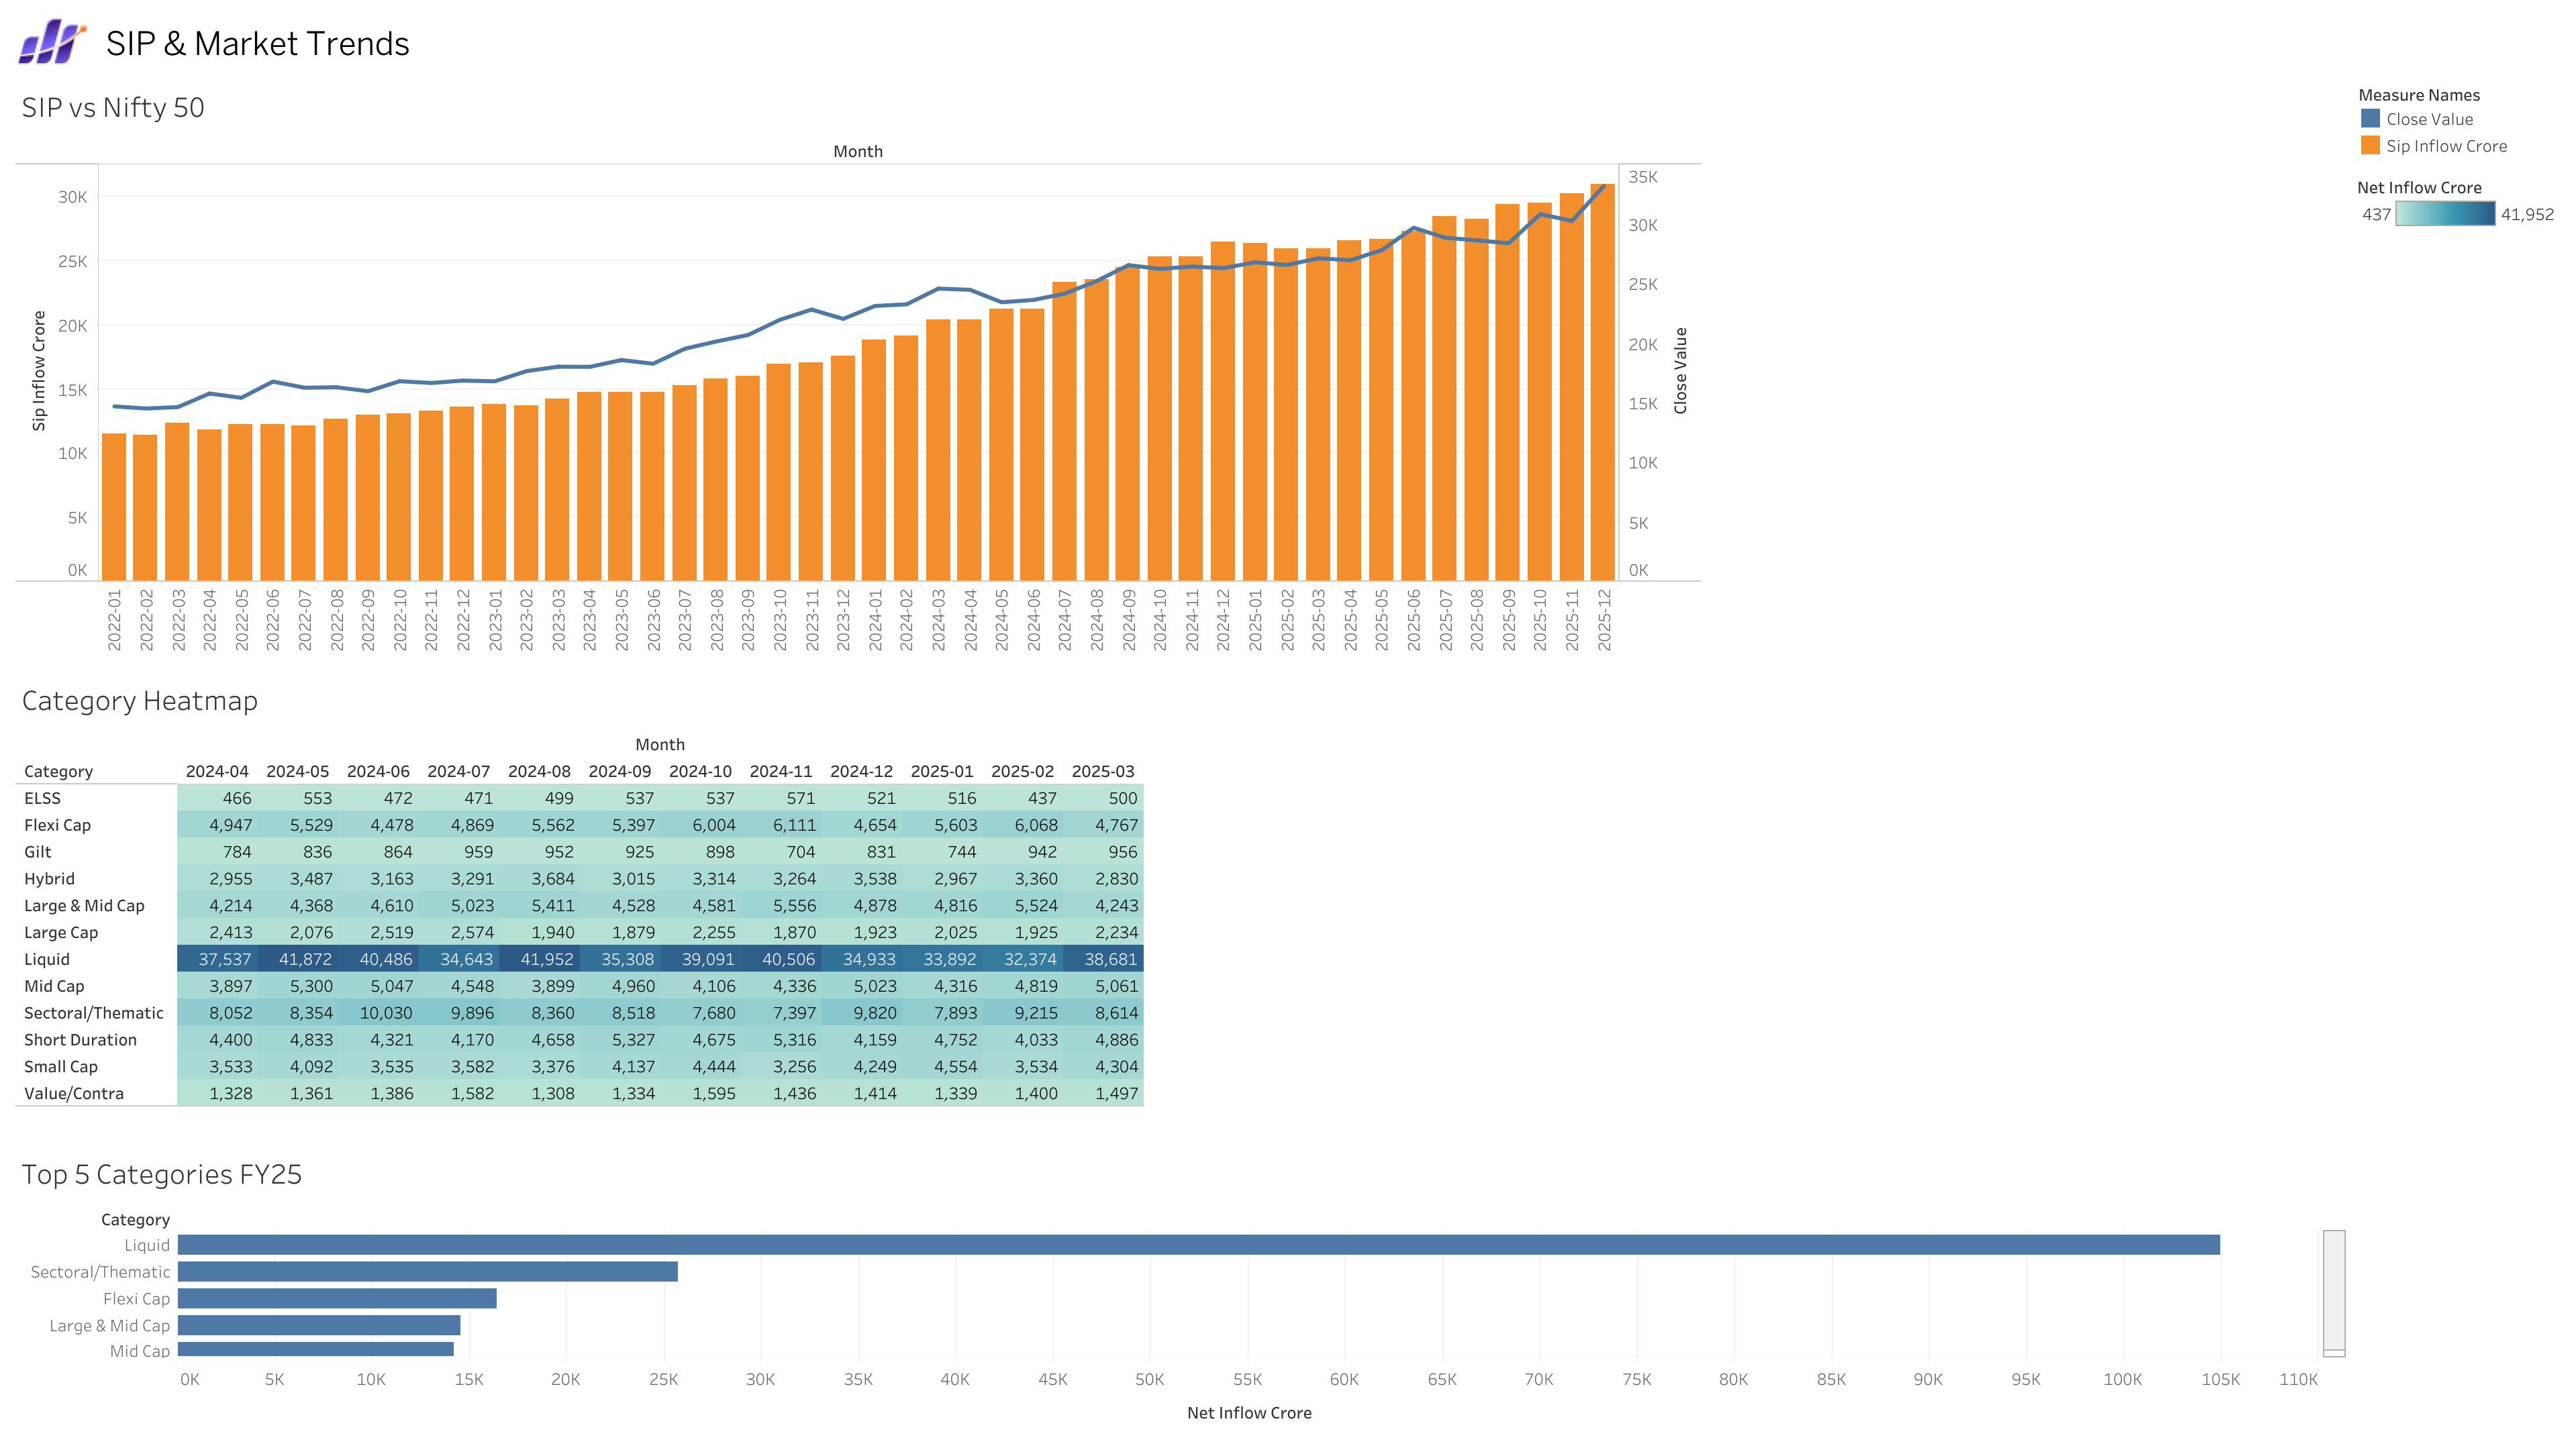

The page's visual inventory and layout, read from the dashboard file:
{"tool":"tableau","page":{"name":"Dashboard 4","canvas":[1920,1080],"ordinal":3},"visuals":[{"type":"image","param":"Image/BS.jpeg","box":[8,8,64,47]},{"type":"title","box":[72,8,1840,47]},{"type":"worksheet","title":"SIP vs Nifty 50","mark":"Automatic","rows":["sip_inflow_crore","close_value"],"cols":["month"],"box":[8,55,1263.7,442.5]},{"type":"legend","title":"SIP vs Nifty 50","param":"[federated.1rnhj9v1i2itn81g2oj6l0yvjvw8].[:Measure Names]","box":[1752,55,160,66]},{"type":"legend","title":"Category Heatmap","param":"[federated.131l25h1lmmewb1drjhkl00ubi74].[sum:net_inflow_crore:qk]","box":[1752,121,160,65]},{"type":"worksheet","title":"Category Heatmap","mark":"Square","rows":["category"],"cols":["month"],"box":[8,497.5,1744,352.2]},{"type":"worksheet","title":"Top 5 Categories FY25","mark":"Automatic","rows":["category"],"cols":["net_inflow_crore"],"box":[8,849.7,1744,222.3]}]}

Visuals, with their boxes in screenshot pixels (x1, y1, x2, y2), scaled from the page's 1920x1080 canvas onto the 2576x1448 screenshot:
image: BBox(11, 11, 97, 74)
title: BBox(97, 11, 2565, 74)
"SIP vs Nifty 50" worksheet: BBox(11, 74, 1706, 667)
"SIP vs Nifty 50" legend: BBox(2350, 74, 2565, 162)
"Category Heatmap" legend: BBox(2350, 162, 2565, 250)
"Category Heatmap" worksheet (Square marks): BBox(11, 667, 2350, 1139)
"Top 5 Categories FY25" worksheet: BBox(11, 1139, 2350, 1437)
